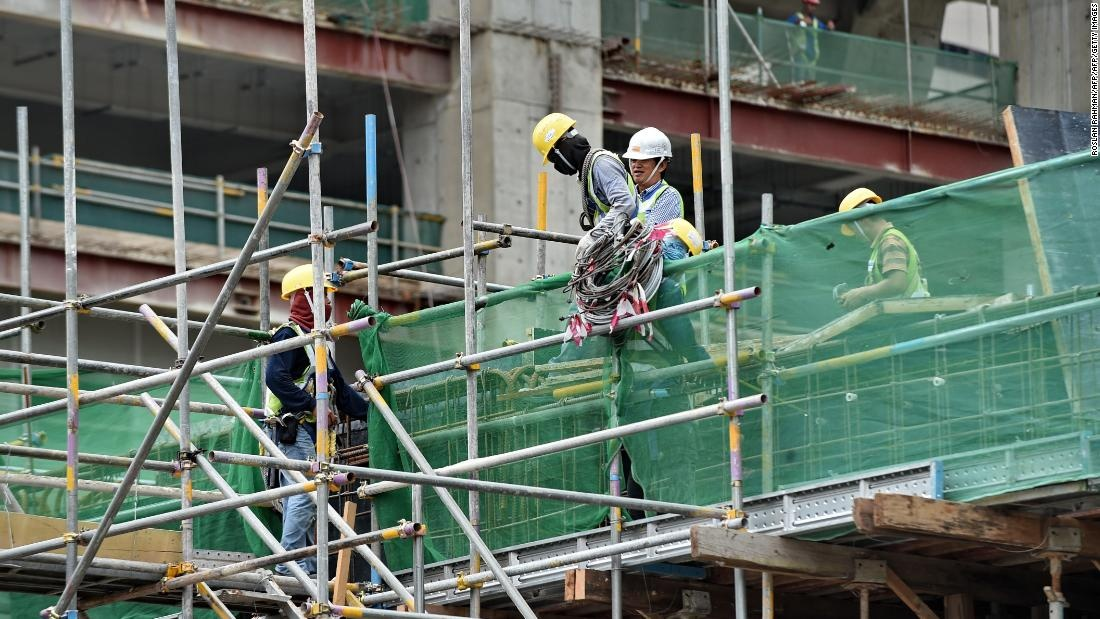white: (624, 123, 674, 185)
yellow: (280, 262, 333, 324), (530, 111, 582, 169), (836, 185, 882, 238)
